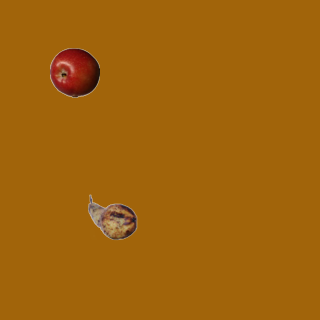Apple Braeburn: (49, 47, 99, 97)
Pear Abate: (87, 192, 137, 242)
